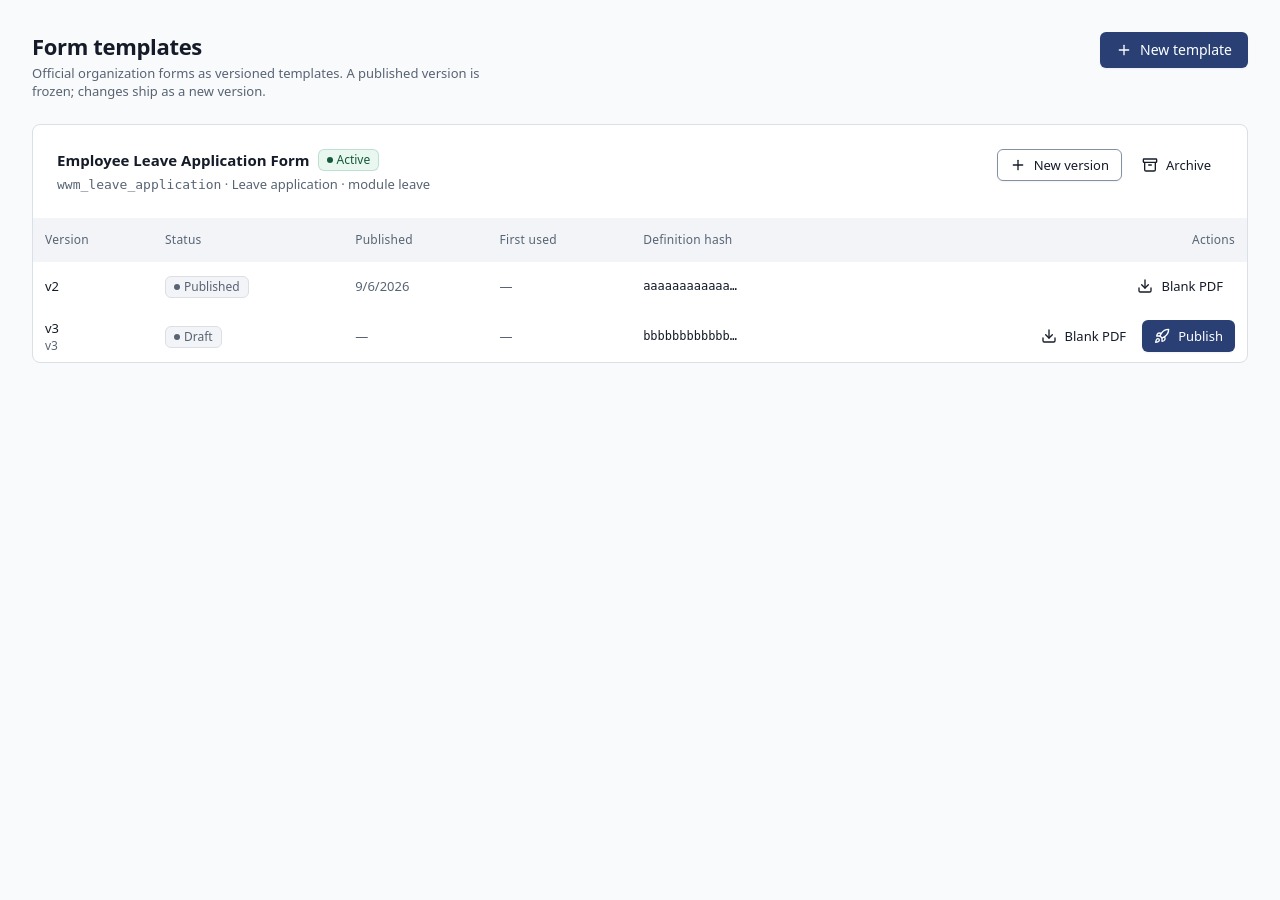
Test: FormTemplatesPage › archive confirmation › opens a confirmation naming the template instead of archiving on click, and Cancel archives nothing
Click the button with test id "button-archive-template-1".
click(1176, 165)  # box [1130,149,1223,181]
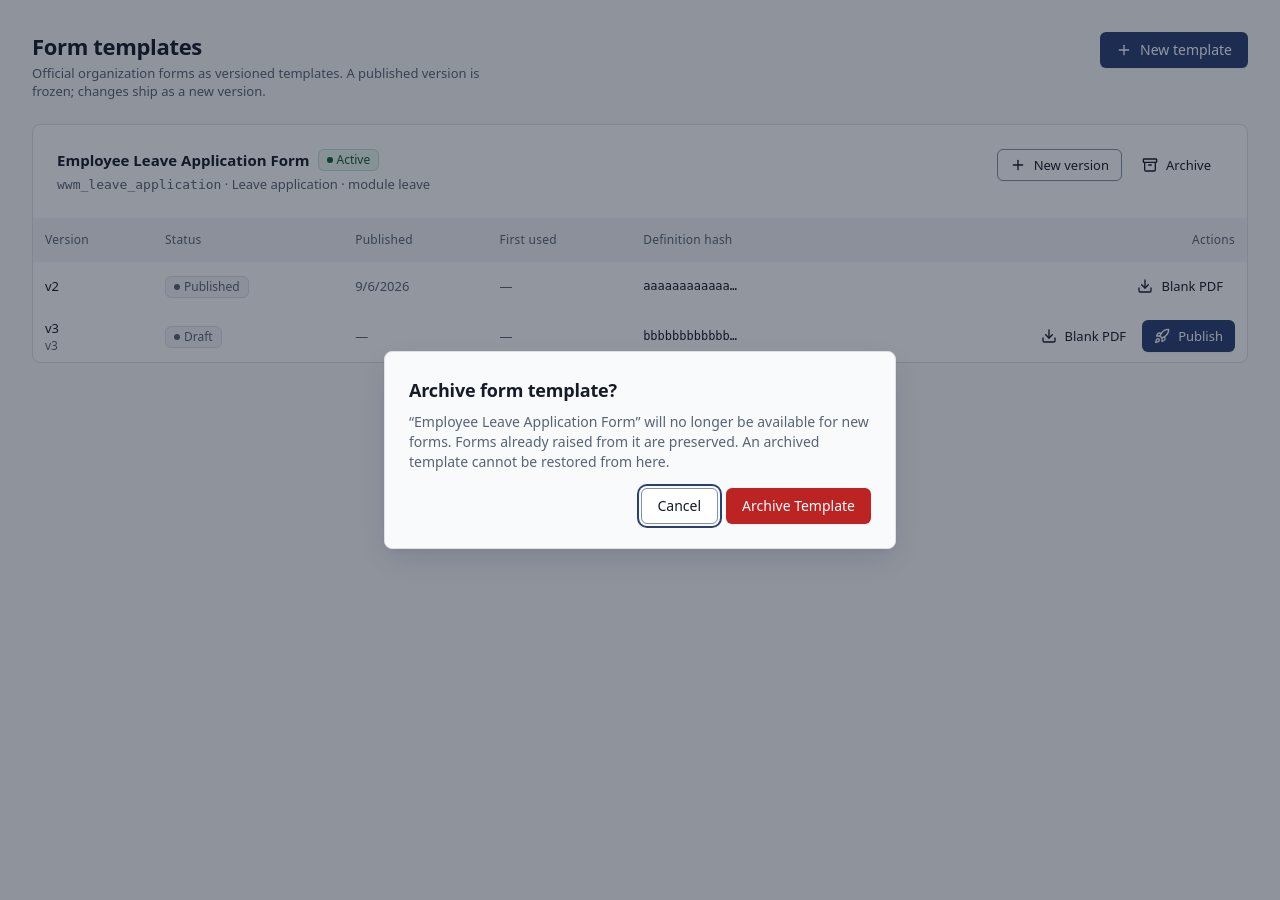
Result: the dialog with test id "dialog-archive-template" shows "Archive form template?" at [409,378,617,402]
Result: the dialog with test id "dialog-archive-template" shows "“Employee Leave Application Form” will no longer be available for new forms" at [384,351,896,549]
Result: the dialog with test id "dialog-archive-template" shows "cannot be restored from here" at [409,412,869,471]
Click the button with test id "dialog-archive-template-cancel".
click(679, 506)  # box [640,488,718,524]
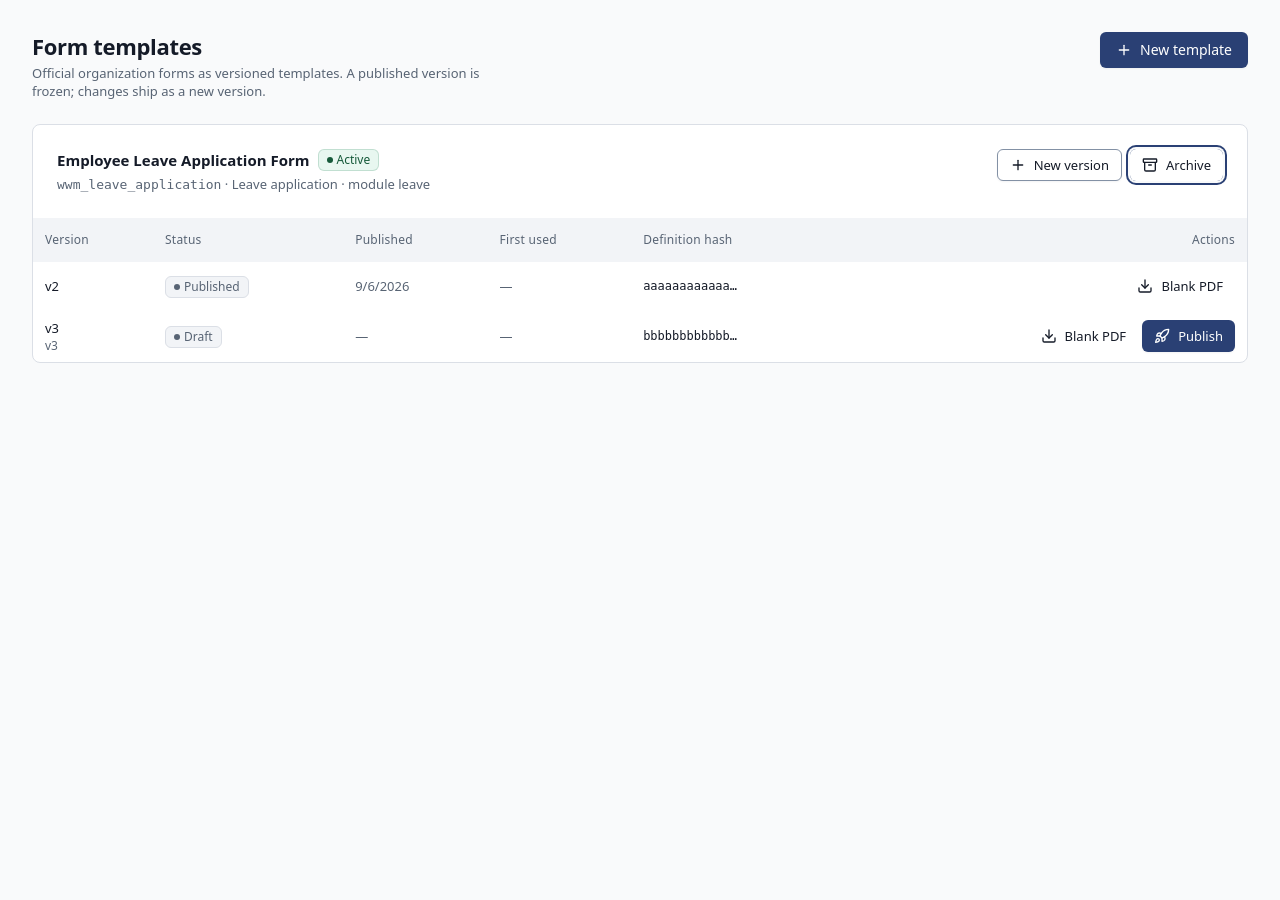
Result: the dialog with test id "dialog-archive-template" is gone
